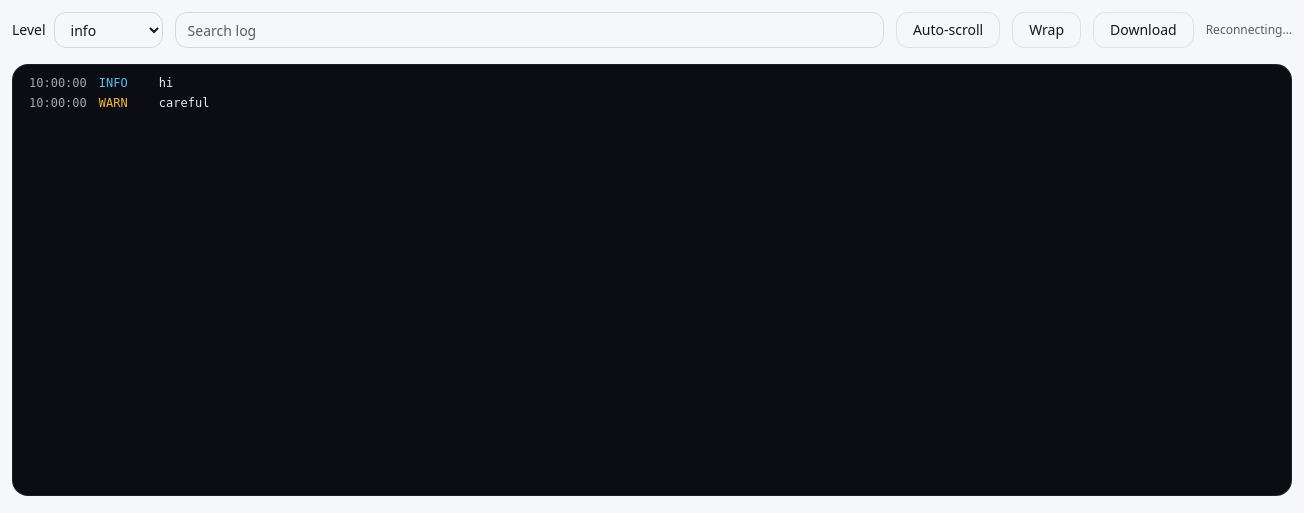
LogViewer › filters by min level
Expected: the text "careful" is shown, [159, 96, 209, 110]
Expected: the text "hi" is shown, [159, 76, 173, 90]
Select "warn" in the dropdown labelled "Level" at coordinates (108, 30), box [54, 12, 163, 48]
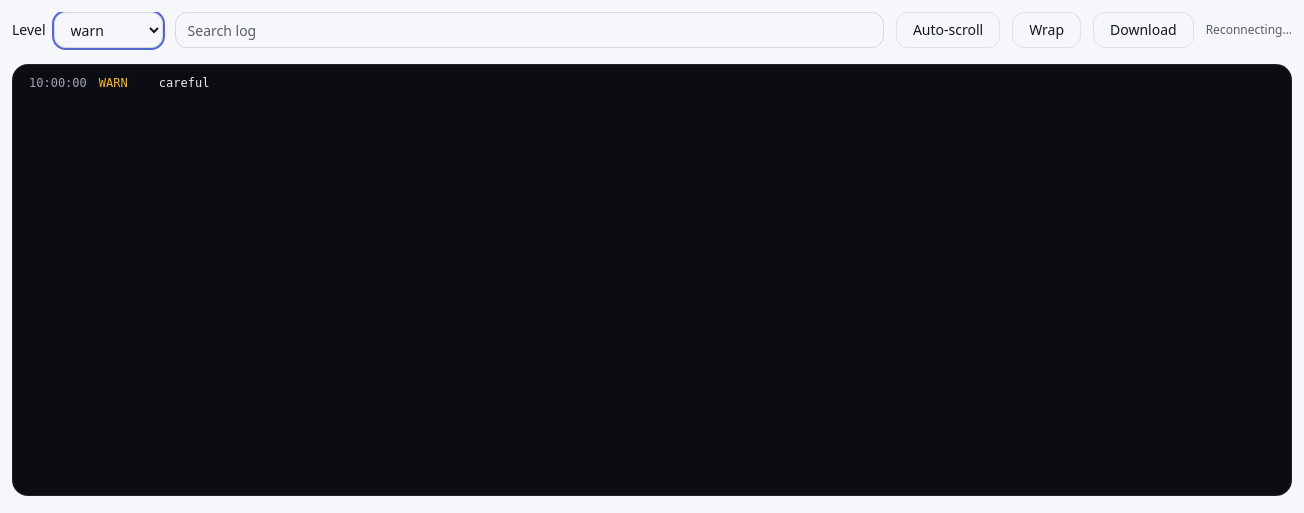
Expected: the text "careful" is shown, [159, 76, 209, 90]
Expected: the text "hi" is gone
